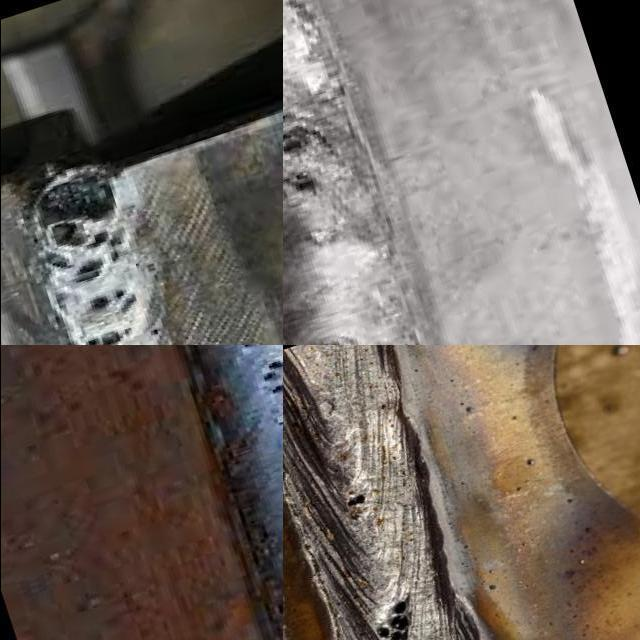defect: (25, 161, 127, 286), (69, 320, 155, 345), (81, 285, 142, 319), (370, 599, 417, 640), (282, 109, 322, 154), (282, 164, 334, 196), (254, 358, 282, 396), (340, 491, 371, 511), (263, 400, 282, 429)
